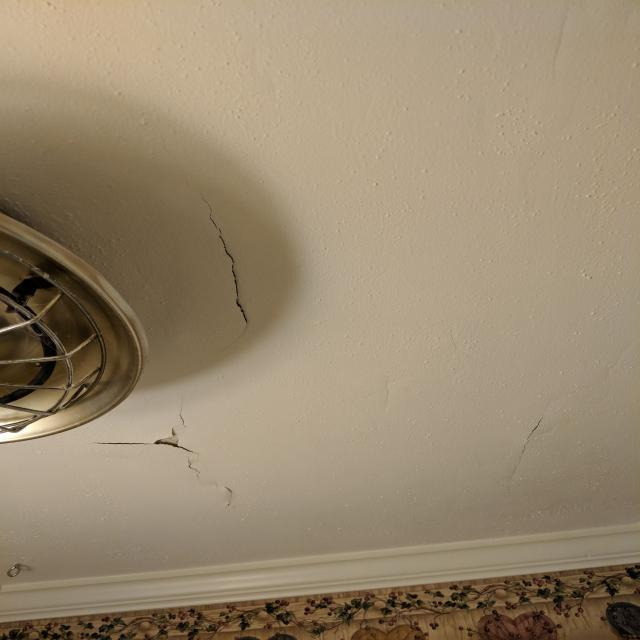leak: (99, 398, 235, 508), (199, 197, 251, 333), (505, 396, 553, 484)
